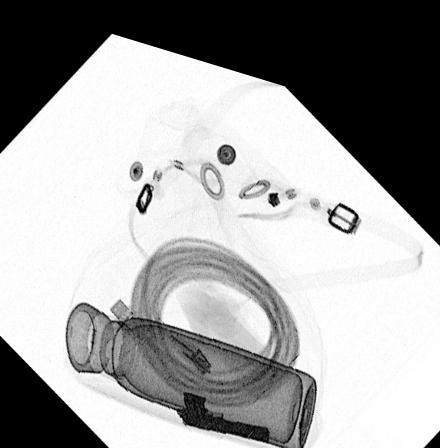Gun: (173, 379, 271, 427)
